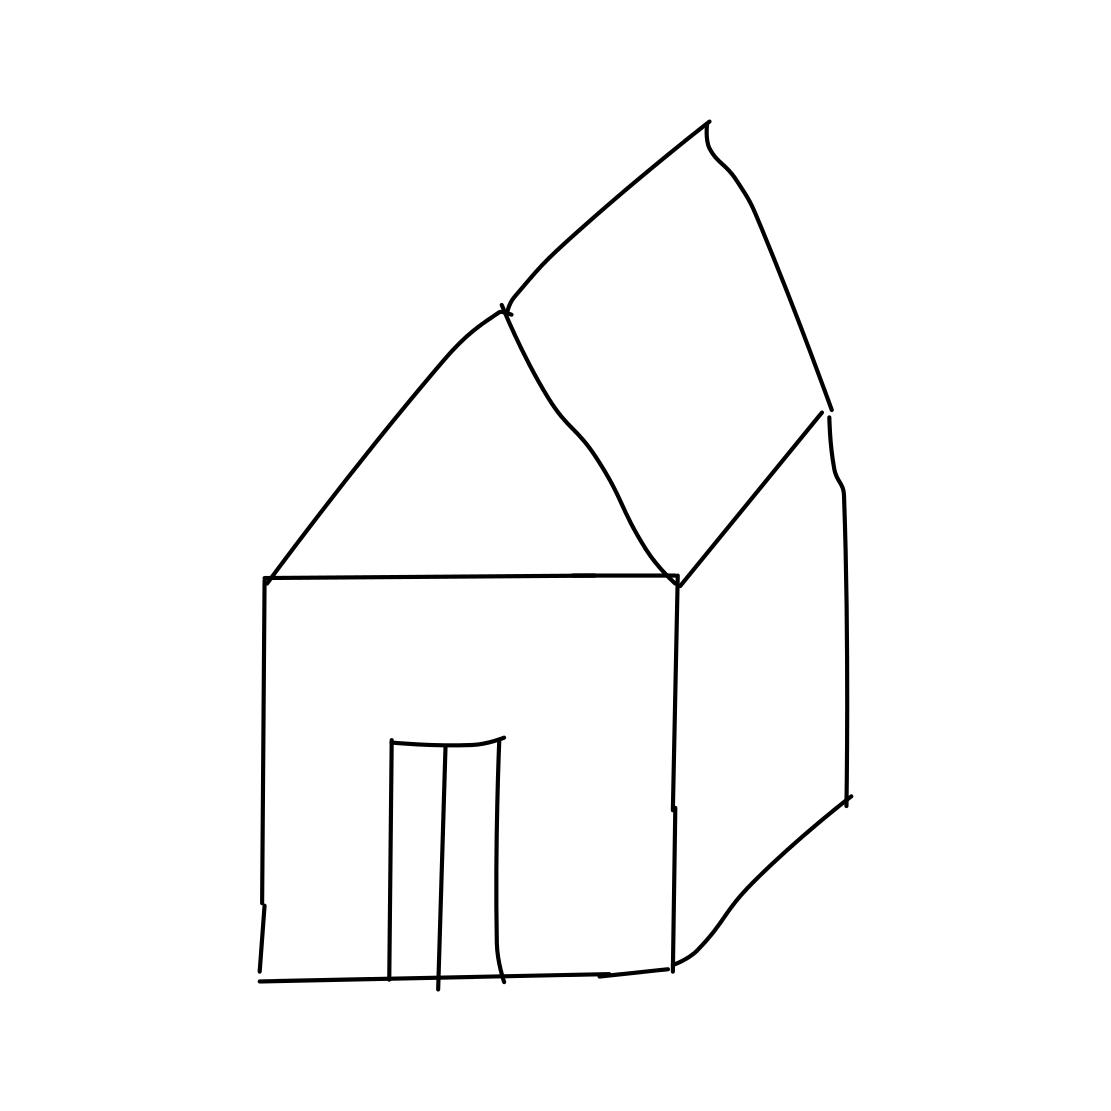House: (177, 95, 876, 998)
